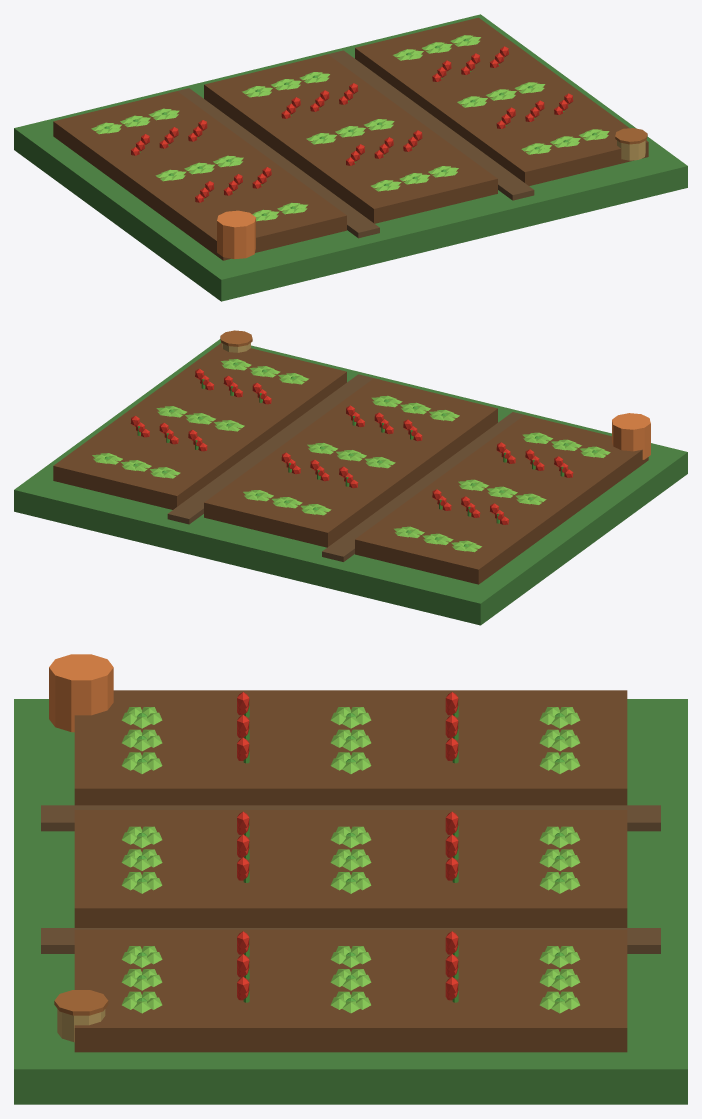
File: vegetable_garden.glb
3 views of the same model, one above another, from view 1: azimuth 30°, elevation 25°; view 2: azimuth 150°, elevation 25°; view 3: azimuth 270°, elevation 25° (orthographic). The views are drawn at different scales.
Visible parts, largest first — view 1: TerrainBase, RaisedBed.001, RaisedBed.002, RaisedBed, GardenPath.001, GardenPath, WaterJar, HarvestBasketRim, HarvestBasket; view 2: TerrainBase, RaisedBed.001, RaisedBed, RaisedBed.002, GardenPath.001, GardenPath, WaterJar; view 3: TerrainBase, RaisedBed.002, RaisedBed.001, RaisedBed, GardenPath, WaterJar, GardenPath.001, HarvestBasketRim, HarvestBasket.
Boxes of the visible parts, box(x1,y1,x2,y2) form: TerrainBase: box(14, 14, 687, 301); RaisedBed.001: box(204, 54, 497, 223); RaisedBed.002: box(355, 17, 648, 185); RaisedBed: box(53, 91, 346, 260); GardenPath.001: box(324, 50, 534, 200); GardenPath: box(168, 88, 379, 238); WaterJar: box(217, 210, 255, 259); HarvestBasketRim: box(615, 128, 647, 144); HarvestBasket: box(617, 140, 645, 160); TerrainBase: box(14, 339, 687, 625); RaisedBed.001: box(204, 378, 497, 547); RaisedBed: box(355, 415, 648, 584); RaisedBed.002: box(53, 343, 346, 509); GardenPath.001: box(167, 374, 379, 524); GardenPath: box(322, 412, 532, 561); WaterJar: box(612, 413, 650, 459); TerrainBase: box(14, 699, 687, 1104); RaisedBed.002: box(74, 929, 627, 1052); RaisedBed.001: box(74, 810, 627, 927); RaisedBed: box(74, 690, 627, 805); GardenPath: box(41, 805, 660, 831); WaterJar: box(49, 654, 113, 732); GardenPath.001: box(41, 928, 660, 953); HarvestBasketRim: box(54, 990, 108, 1015); HarvestBasket: box(57, 1009, 105, 1042).
Size of the model in its own units: 13 by 1.57 by 10.
